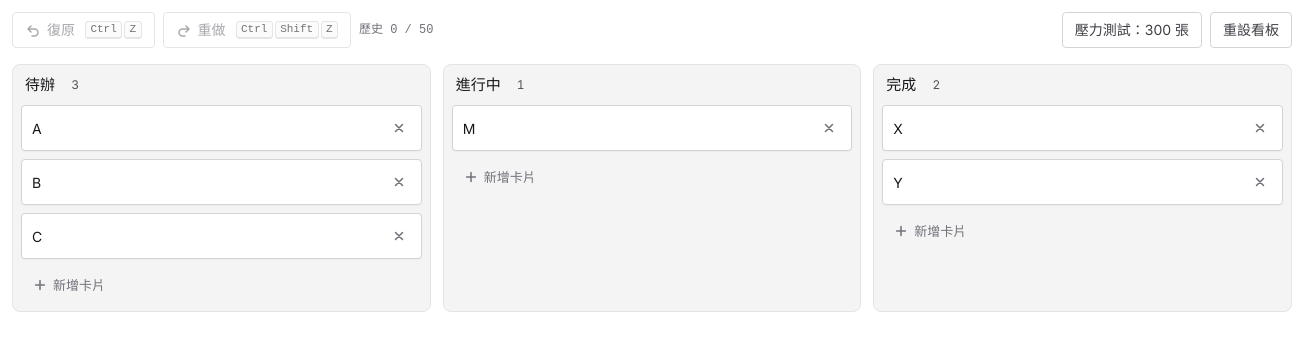
Scenario: editing cards › edits a title on Enter and restores focus to the card
Click the button "B": (37, 182) [22, 160, 377, 204]
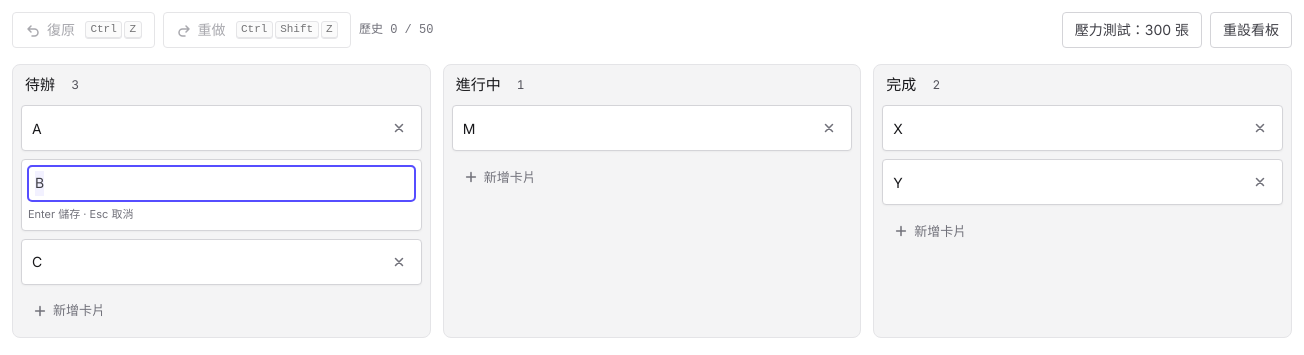
Expected: the field named "卡片標題" holds "B"
Replace the text in the field named "卡片標題" with "Beta": (221, 183) [28, 166, 415, 200]
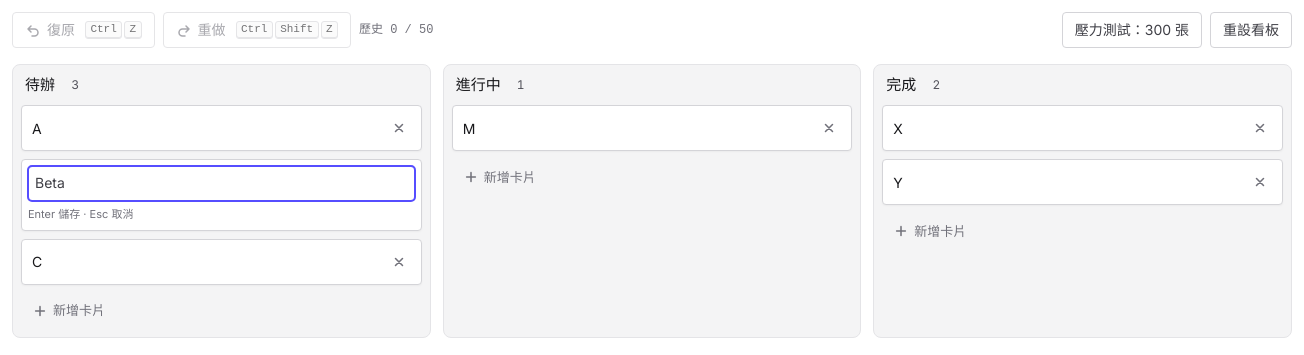
Press Enter in the field named "卡片標題", box [28, 166, 415, 200]
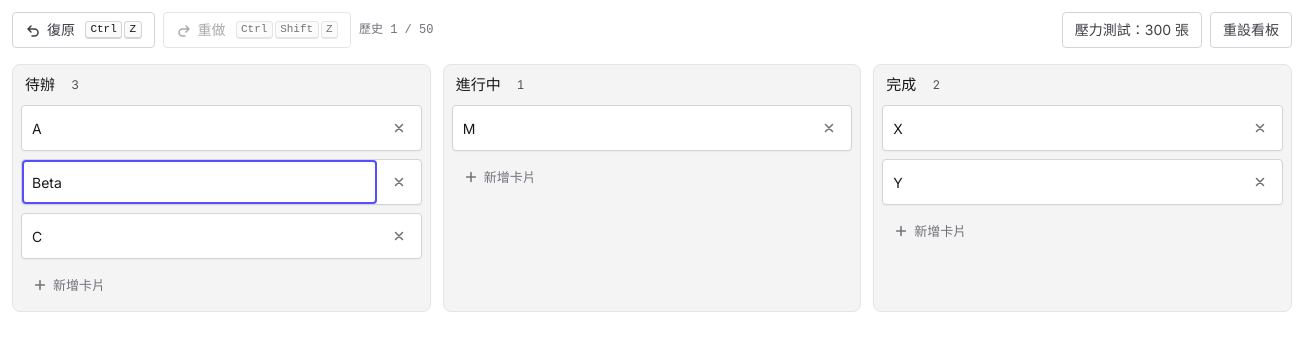
Expected: the button "Beta" is shown, [22, 160, 377, 204]
